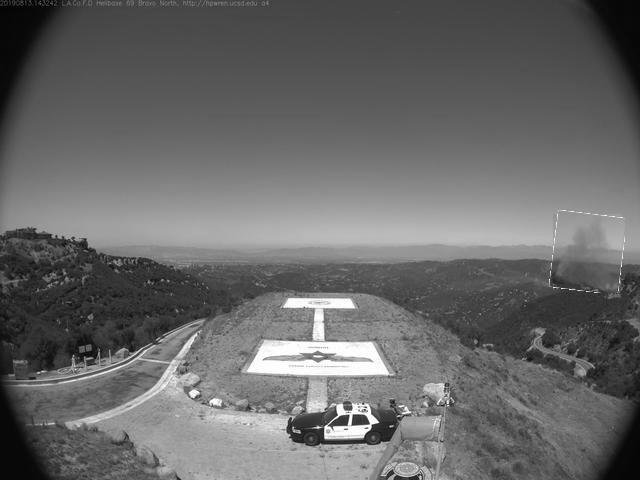smoke: (552, 213, 625, 294)
